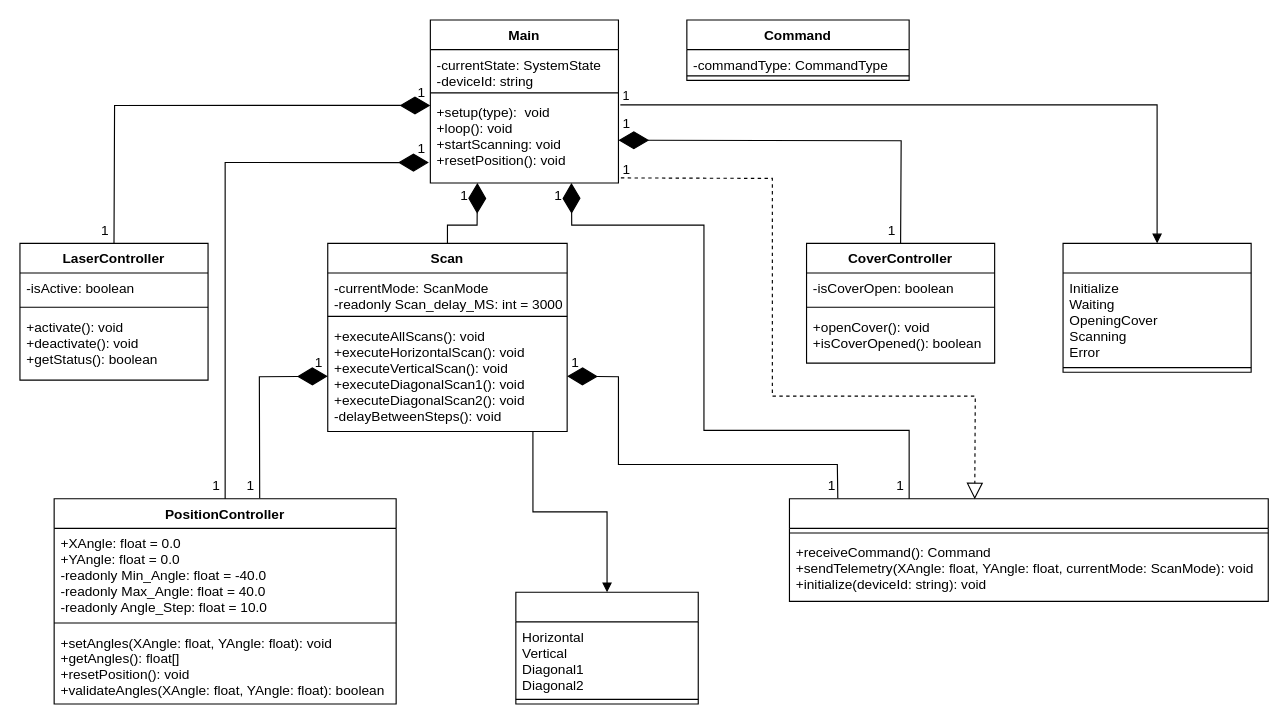
The diagram is 1288 pixels wide and 727 high, and some of its shapes have lost their labels. The shapes that lost their labels are listed below. From the top down, each one's box as (x1, y1, x2, y2) in pixels, then its label:
(1062, 242, 1251, 372): SystemState
(788, 498, 1268, 601): RadioModule
(515, 591, 698, 704): ScanMode
